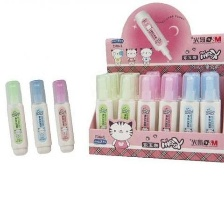book: (85, 1, 224, 166)
correction_fluid: (26, 78, 54, 156), (3, 79, 30, 156), (156, 72, 181, 154), (197, 70, 221, 155), (114, 71, 140, 148), (178, 71, 202, 154), (51, 78, 77, 154), (134, 72, 158, 149), (95, 71, 114, 147)
